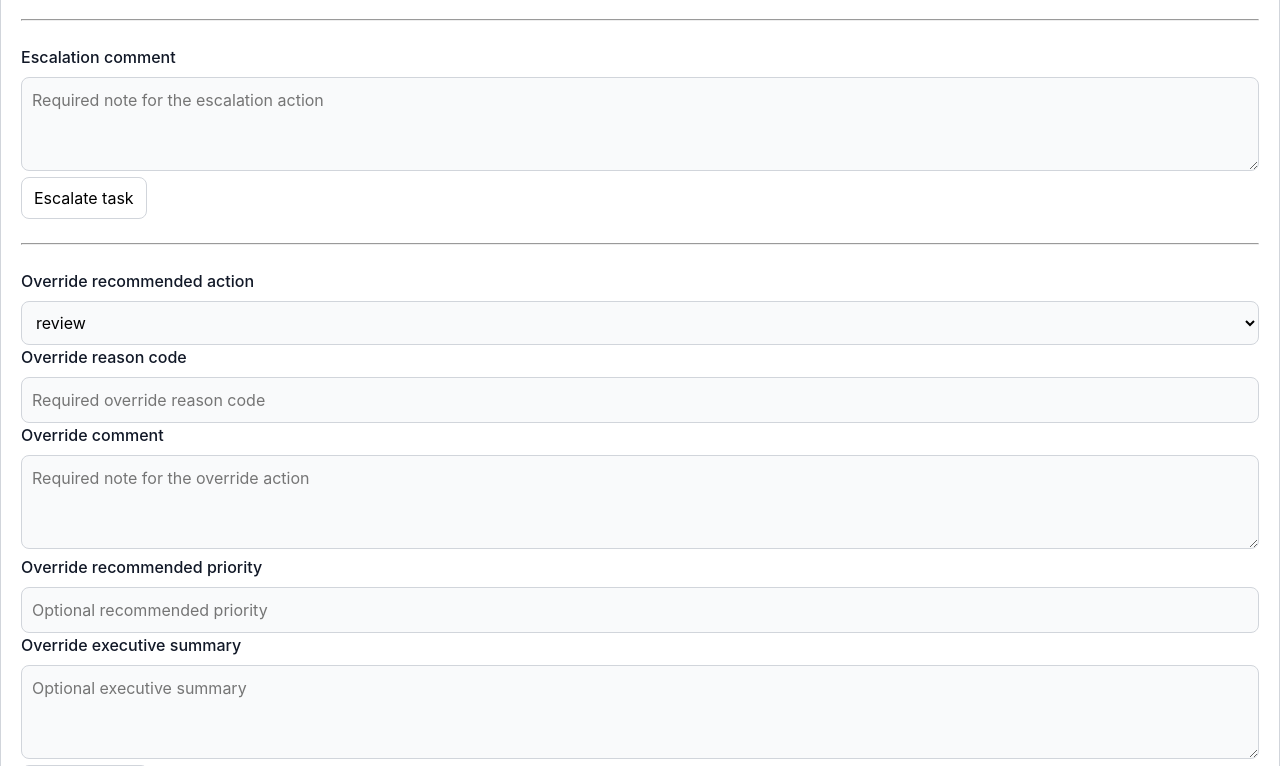
Test: ReviewTaskDetailPage › submits override when required fields are present
(page scrolled)
Type "analyst_override" into the field labelled "Override reason code" at coordinates (640, 400), box [21, 377, 1259, 423]
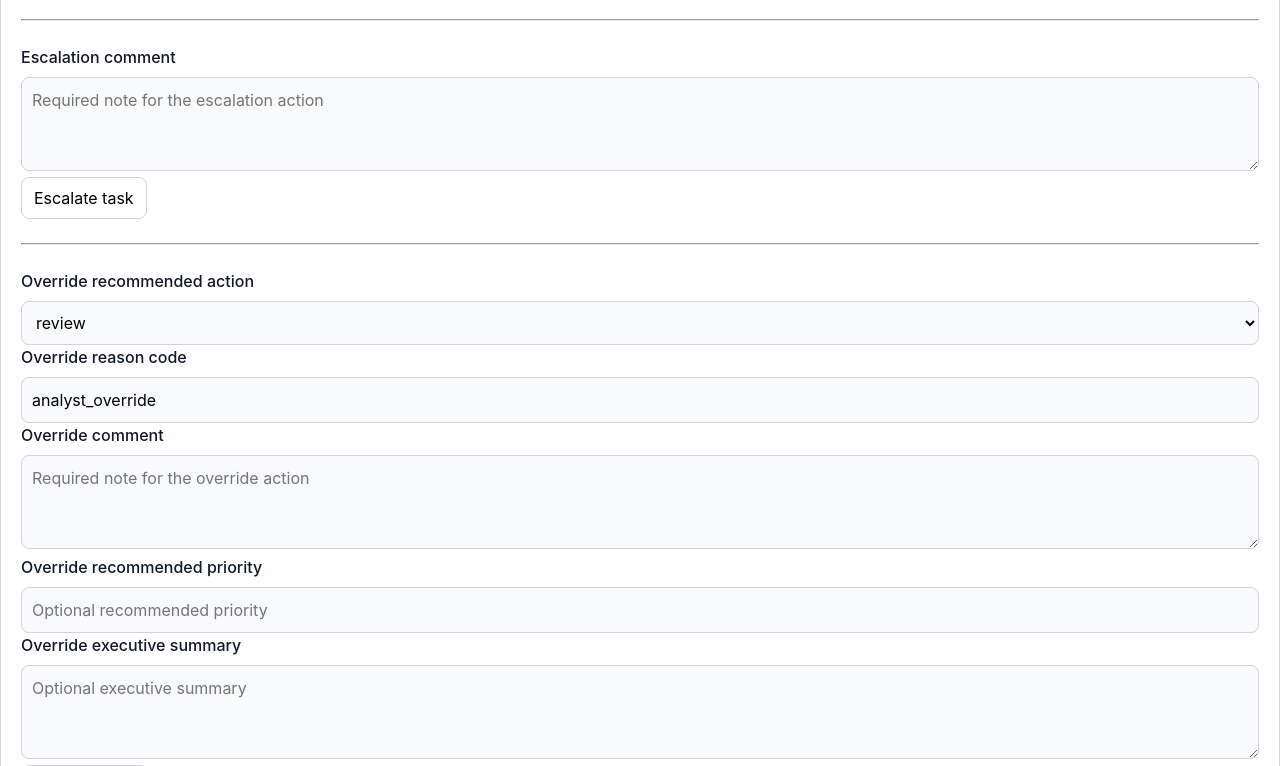
Type "Human review found stronger support than the model." into the text box labelled "Override comment" at coordinates (640, 502), box [21, 455, 1259, 549]
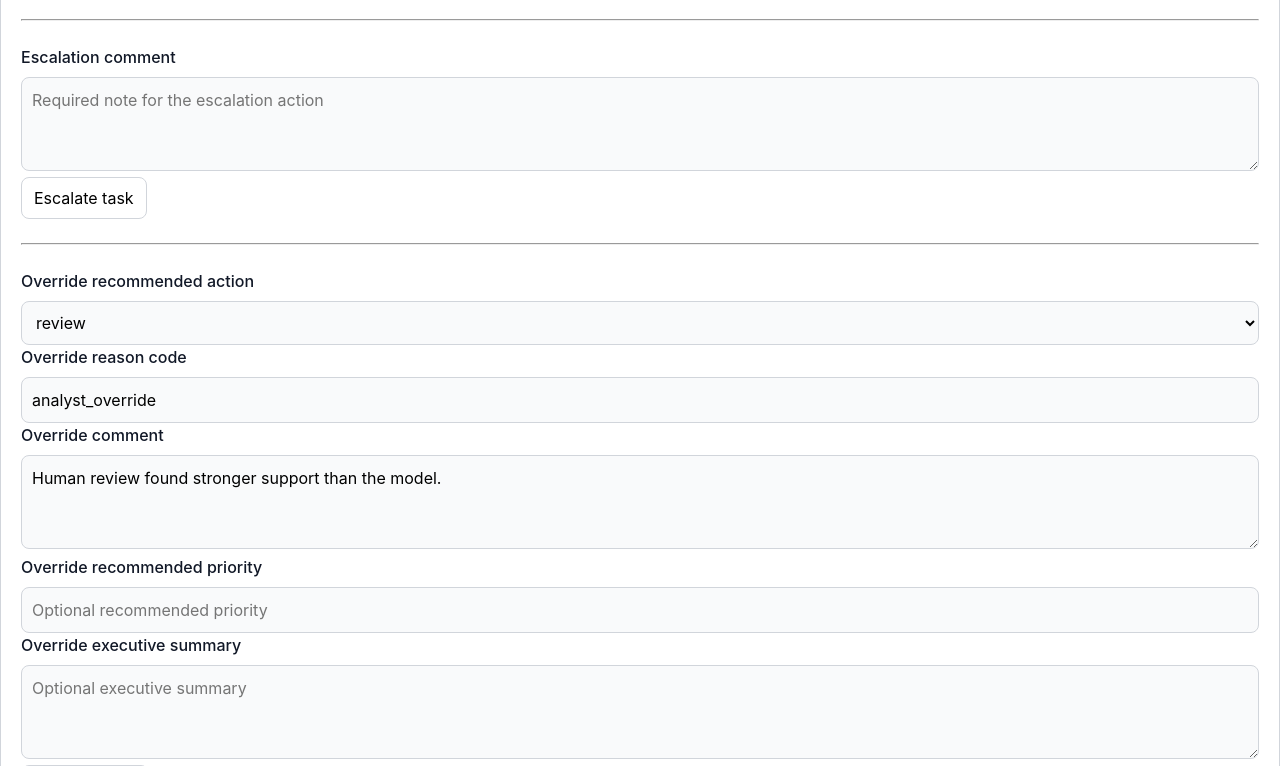
Select "approve" in the dropdown labelled "Override recommended action" at coordinates (640, 323), box [21, 301, 1259, 345]
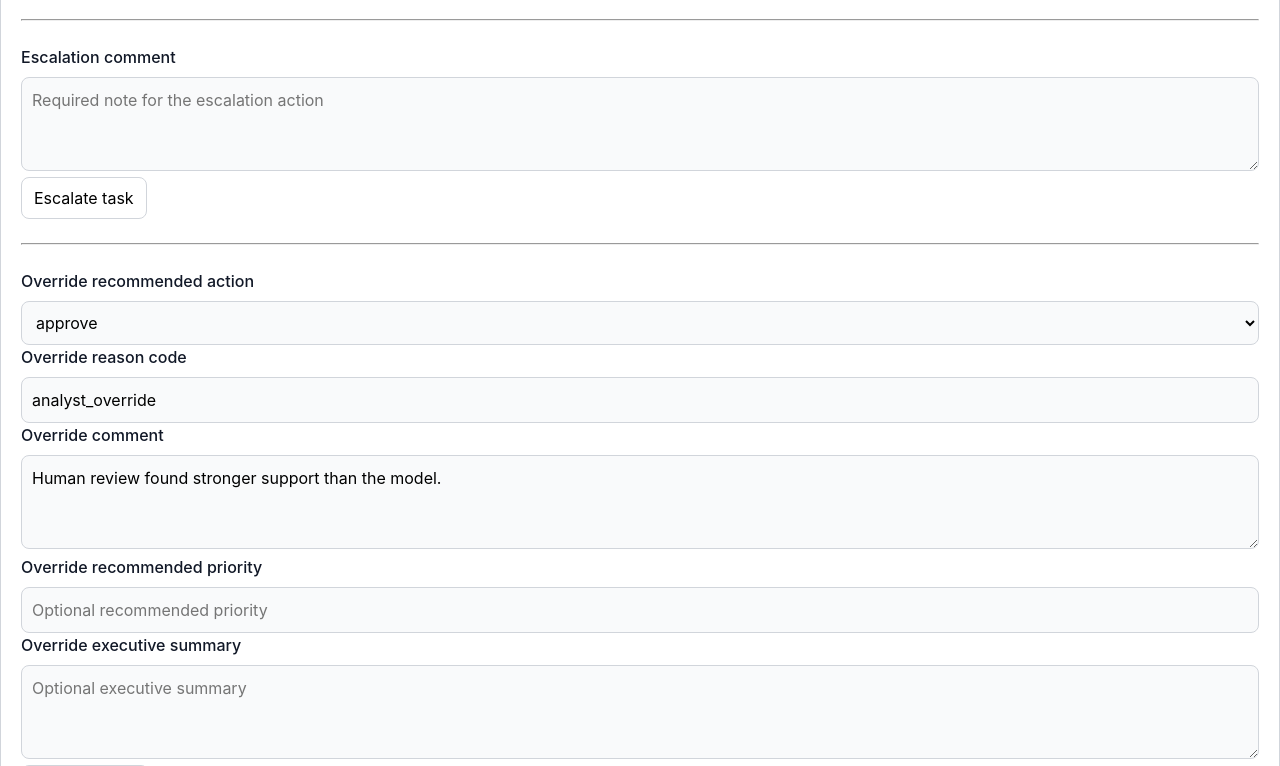
Type "medium" into the field labelled "Override recommended priority" at coordinates (640, 610), box [21, 587, 1259, 633]
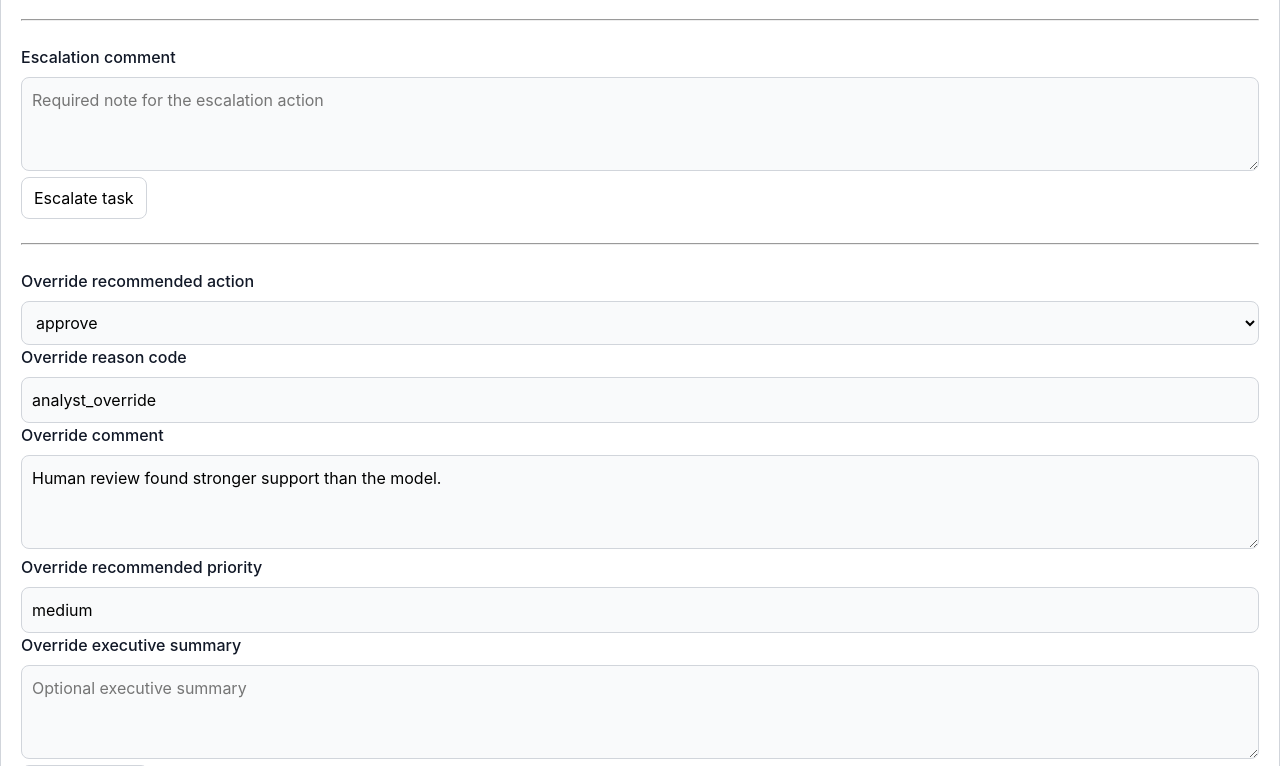
Type "Override to approve after manual validation." into the text box labelled "Override executive summary" at coordinates (640, 712), box [21, 665, 1259, 759]
(page scrolled)
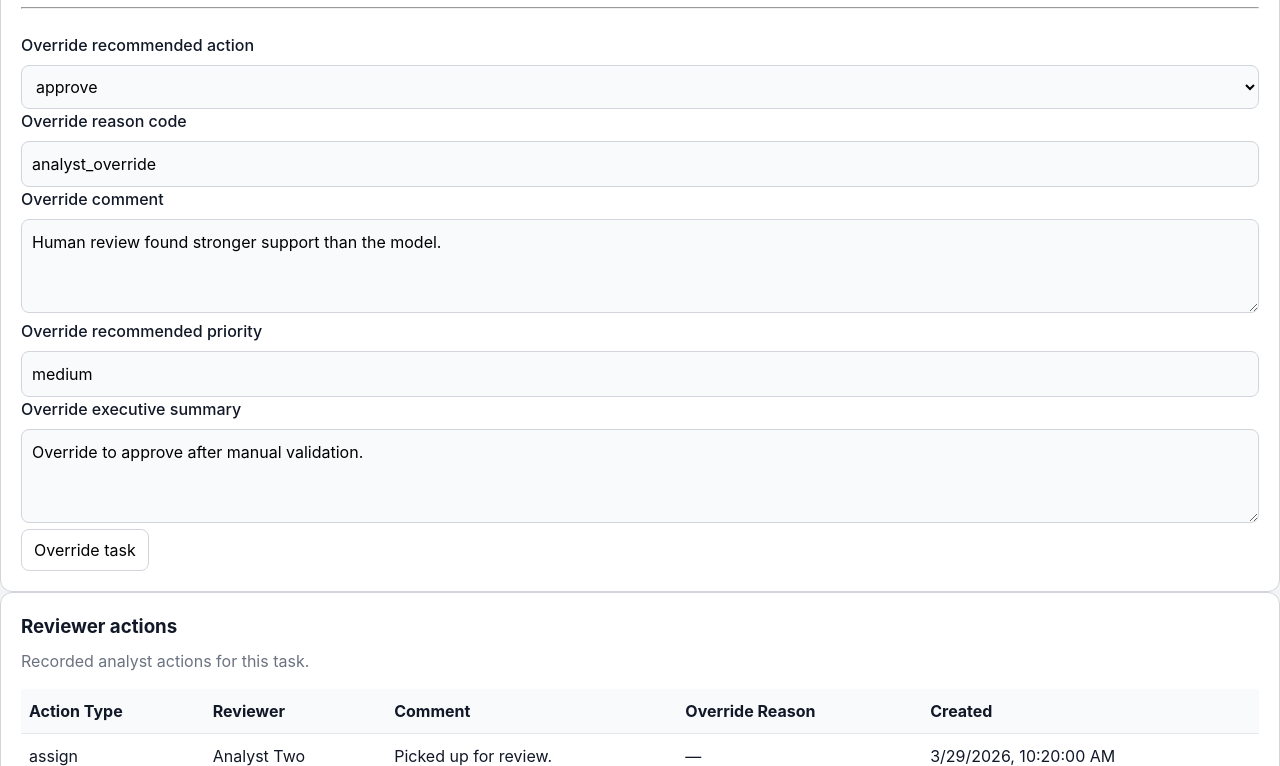
Click the button "Override task" at coordinates (85, 550), box [21, 529, 149, 571]
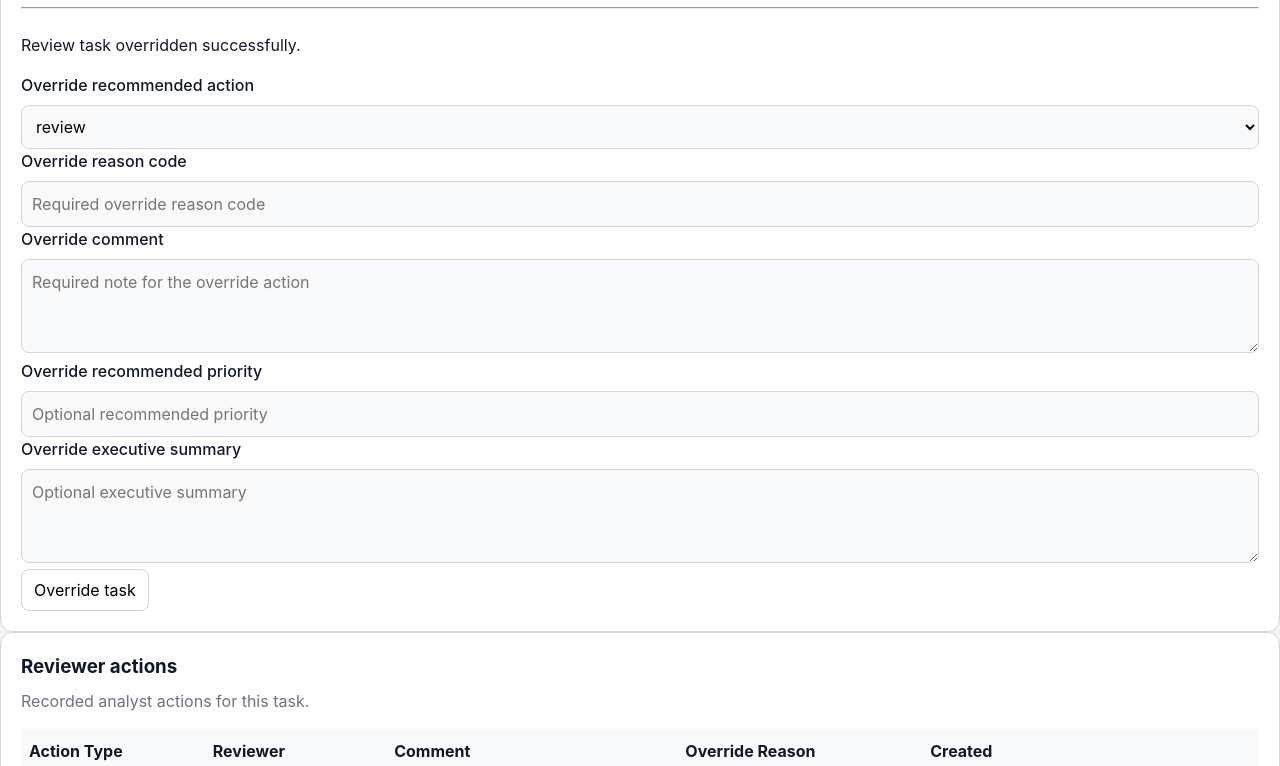
expect the text "Review task overridden successfully." is shown: met, box [21, 35, 301, 55]
